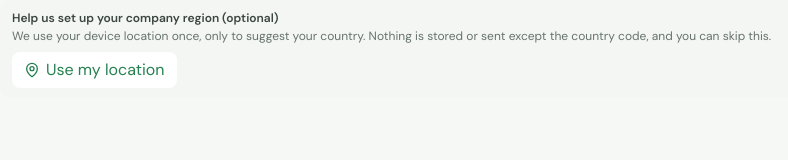
Test: RegionalLocationOptIn › shows a calm message when location is denied and stores nothing
Step 1. Click the button "Use my location" → [94, 70], box [12, 52, 176, 88]
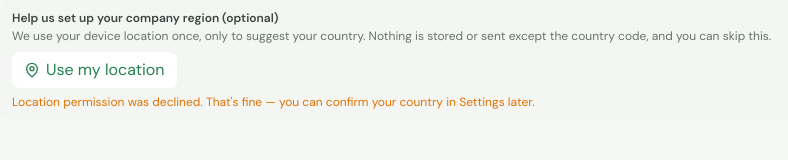
Result: the text "declined" is shown at [12, 94, 535, 110]
